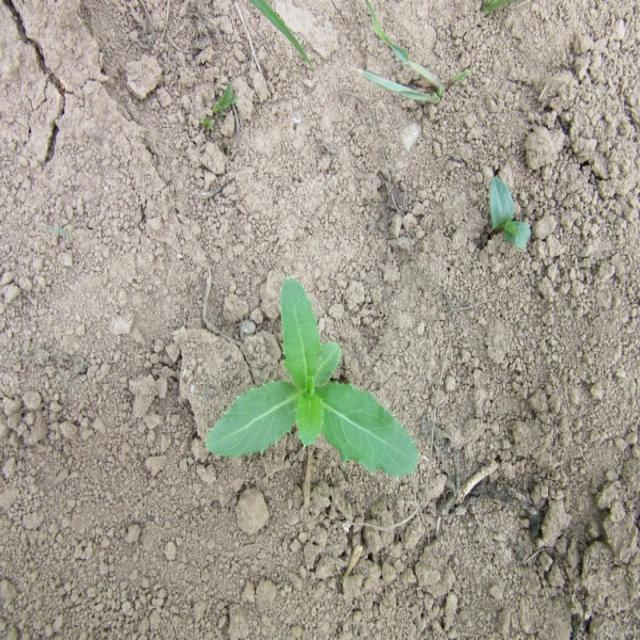field_thistle: (202, 252, 415, 497)
